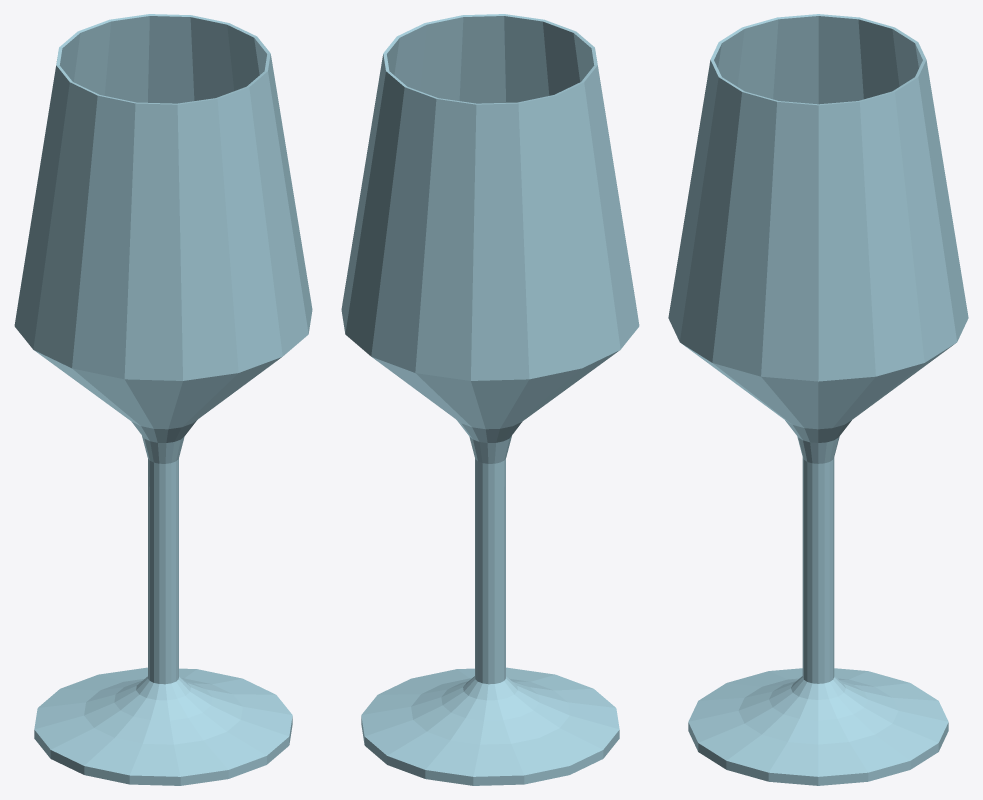
Rendered from Copa02.fbx.
The picture shows the model from 3 angles, left to right: view 1: azimuth 30°, elevation 25°; view 2: azimuth 150°, elevation 25°; view 3: azimuth 270°, elevation 25°; orthographic projection.
Visible parts, largest first — view 1: Copa02; view 2: Copa02; view 3: Copa02.
Part boxes in pixels (bbox=[...]): Copa02: bbox=[14, 14, 312, 785]; Copa02: bbox=[341, 14, 639, 785]; Copa02: bbox=[668, 14, 968, 785].
Bounding box in the file's own units: 8.41 × 20.75 × 8.41.
